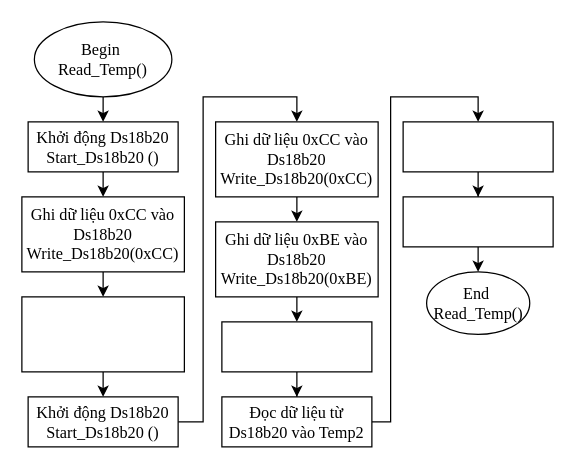
Some shapes in this 575 by 469 pixel diagram are drawn without their labels. Here are the shapes that lost their labels. From the top down, the centre of each, then its label:
At point 477,146: "Temp = (temp2<<8)|temp1".
At point 477,221: "Temperature=(float)Temp/16".
At point 102,334: "Ghi dữ liệu 0x44 vào Ds18b20 Write_Ds18b20(0x44)".
At point 296,346: "Đọc dữ liệu từ Ds18b20 vào Temp1".
